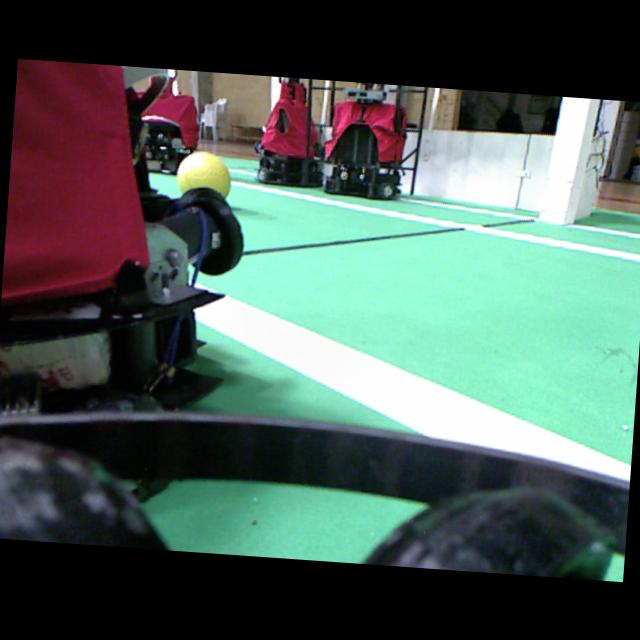ball: (176, 151, 230, 197)
goal: (540, 96, 589, 223)
